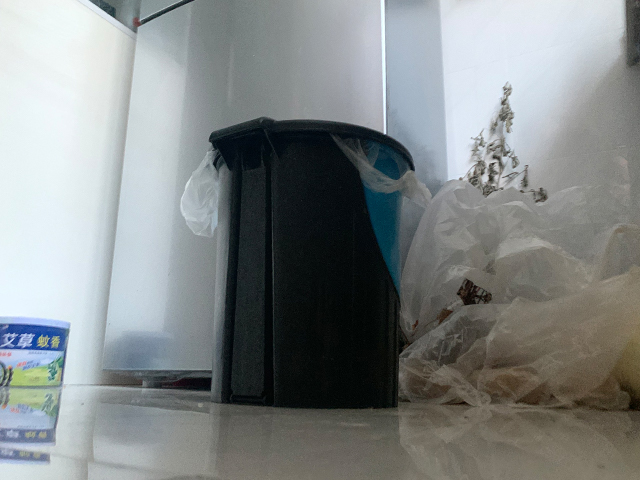trashcan: (208, 116, 416, 411)
